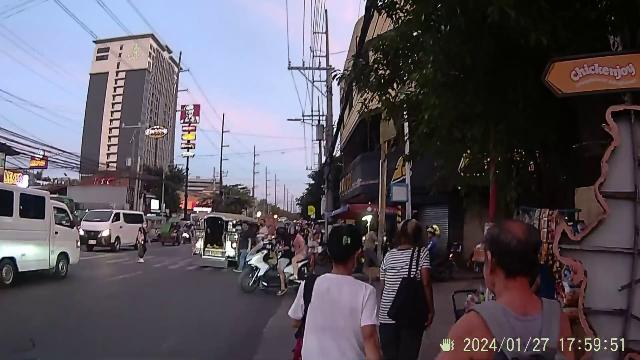utility_post: (286, 6, 338, 162), (219, 109, 231, 187), (251, 142, 261, 192)
